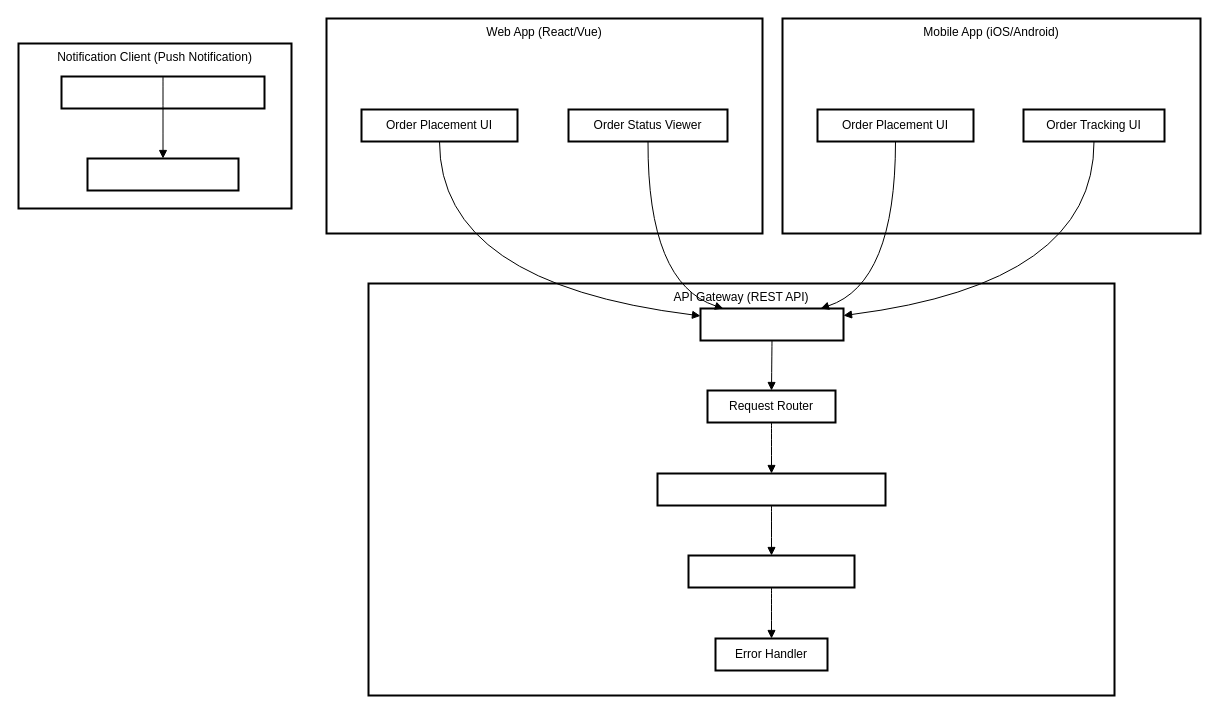
This 1218x713 diagram has some shape labels left out. The centre of each missing label's shape, as x and y in pixels:
Authentication & Authorization: the point at 771,489
Notification Display: the point at 162,174
Push Notification Receiver: the point at 162,92
Request Receiver: the point at 771,324
Request Transformer: the point at 771,571
